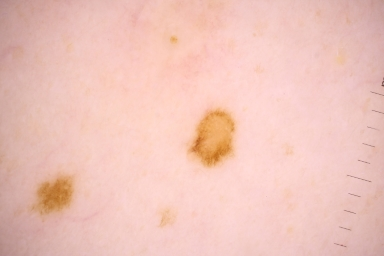melanoma: (188, 107, 237, 167), (32, 178, 72, 216)
